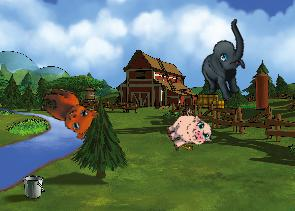bear: (33, 84, 101, 142)
elephant: (186, 18, 266, 105)
pig: (161, 105, 215, 158)
